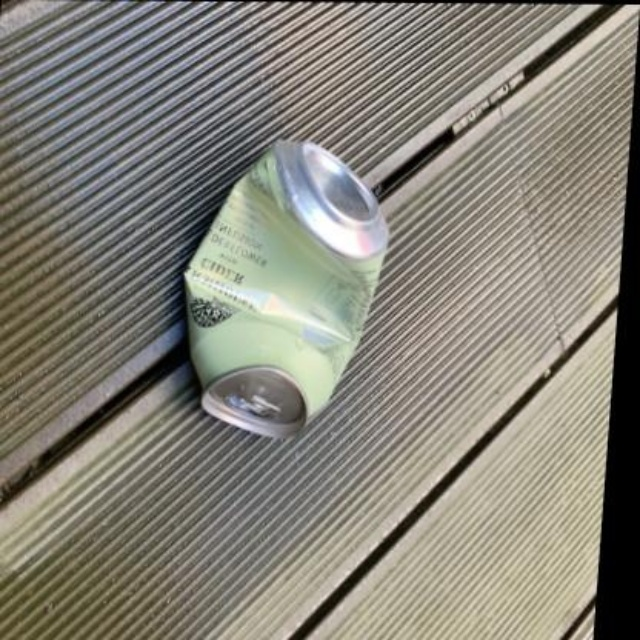trash: (185, 142, 386, 437)
